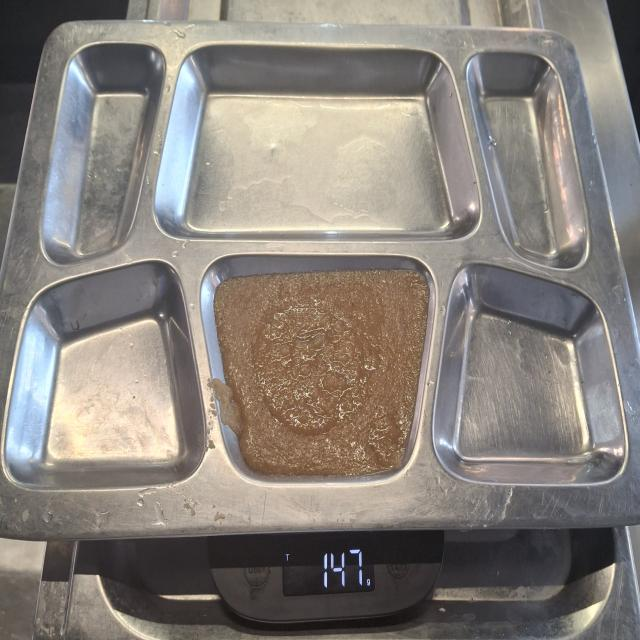Halwa: (215, 270, 430, 484)
